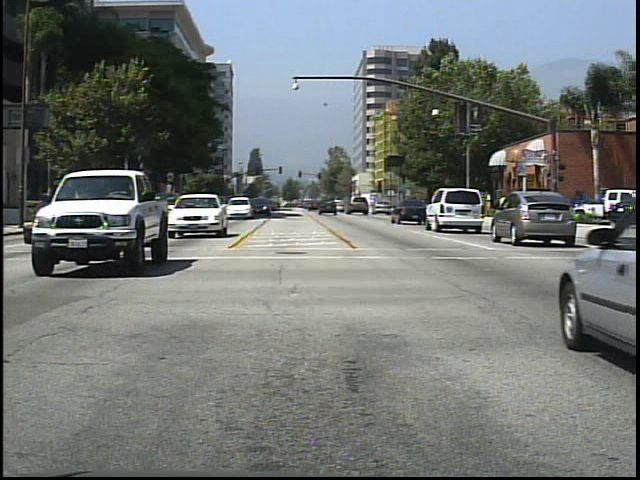person: (494, 189, 513, 228), (455, 192, 474, 227)
